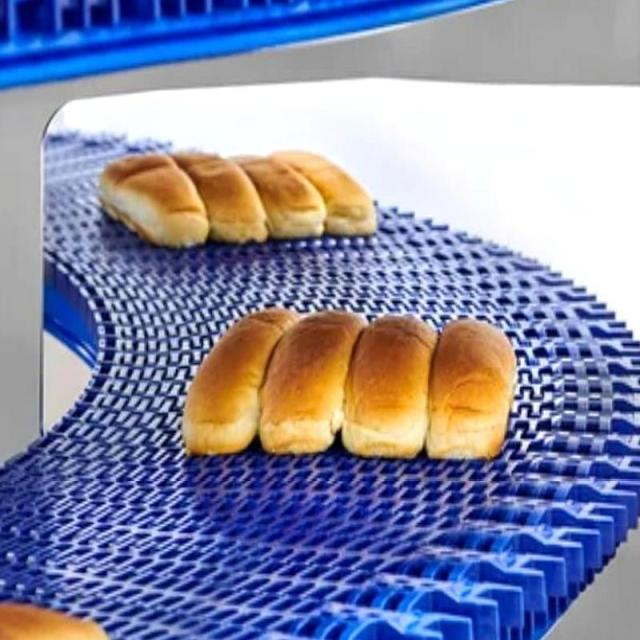food: (180, 306, 518, 462), (100, 141, 380, 250)
